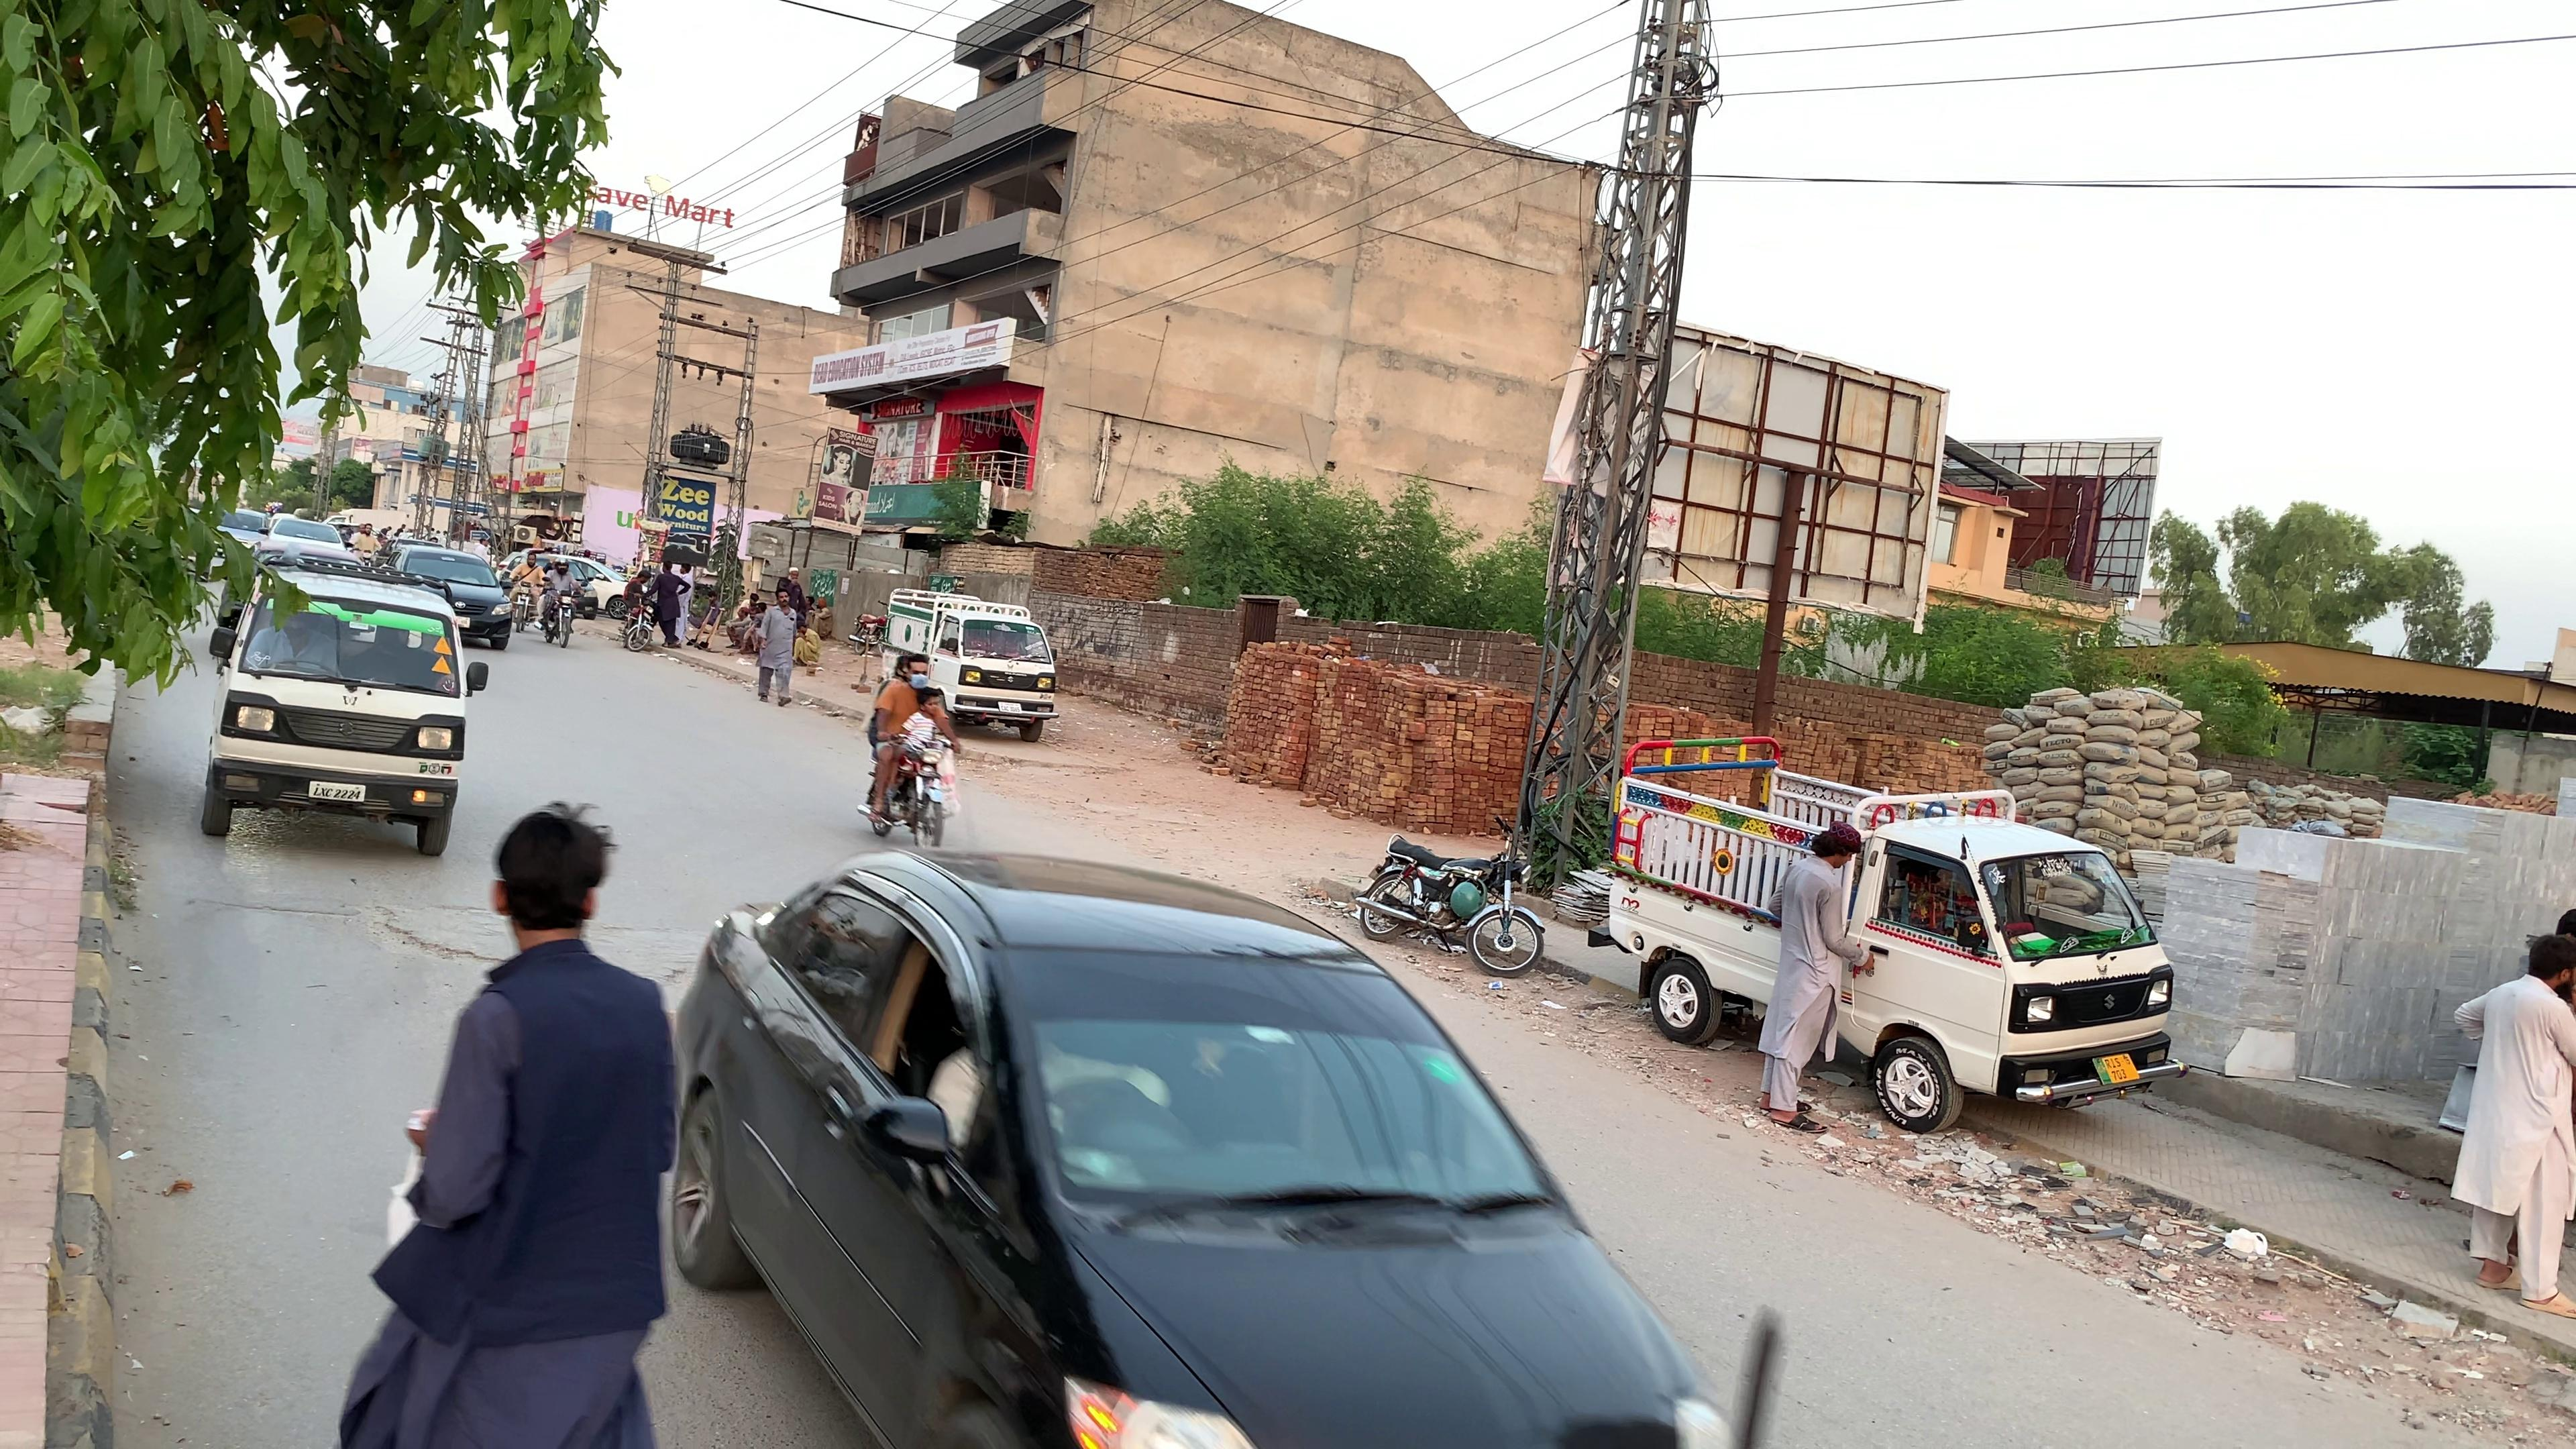windshield: (966, 913, 1598, 1272)
